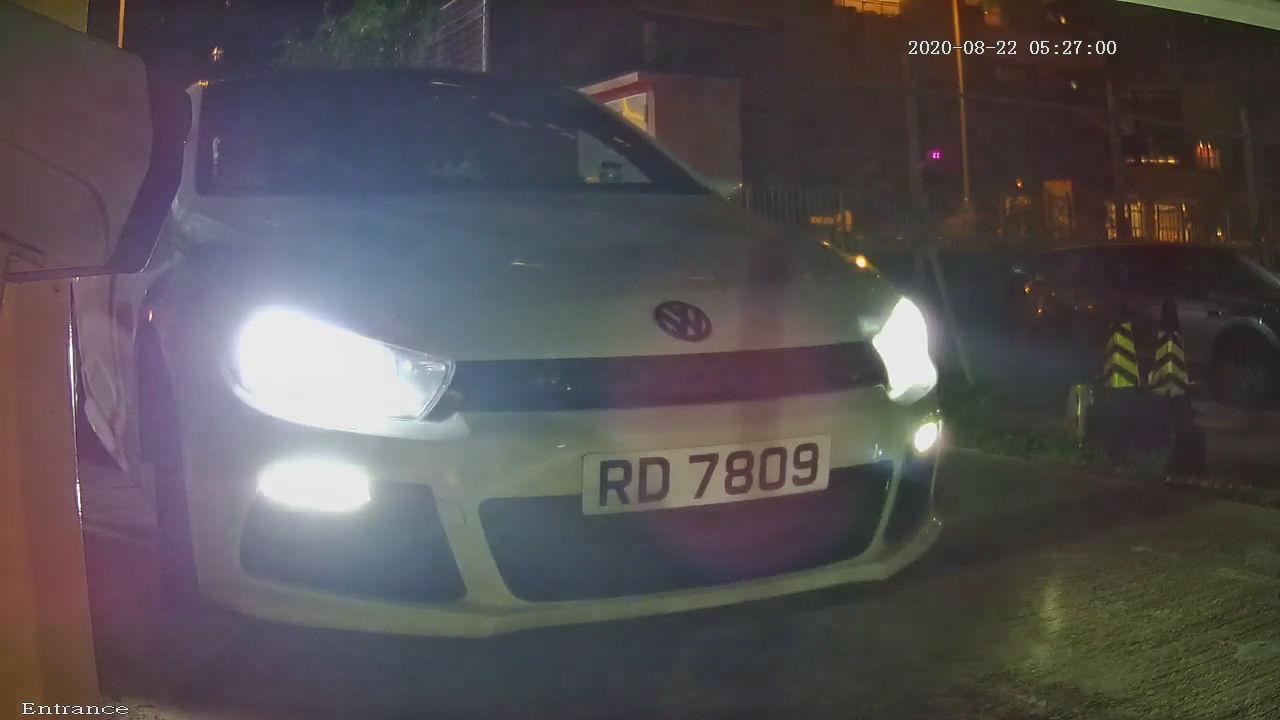Car: (23, 26, 1098, 672)
License Plate: (508, 380, 906, 561)
